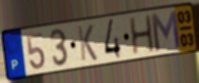3: (49, 26, 71, 68)
4: (102, 17, 124, 60)
5: (25, 31, 47, 71)
H: (128, 13, 156, 56)
K: (76, 23, 99, 63)
M: (149, 9, 183, 54)
